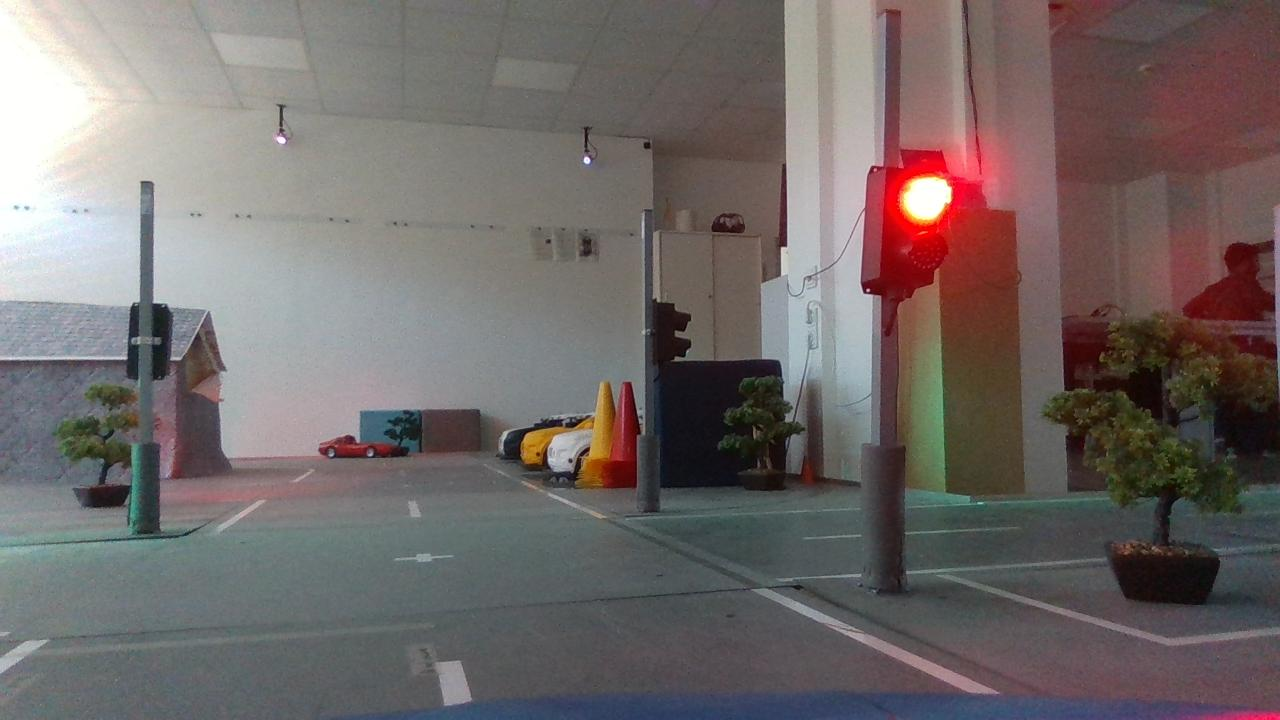traffic_light_red: (842, 147, 969, 323)
